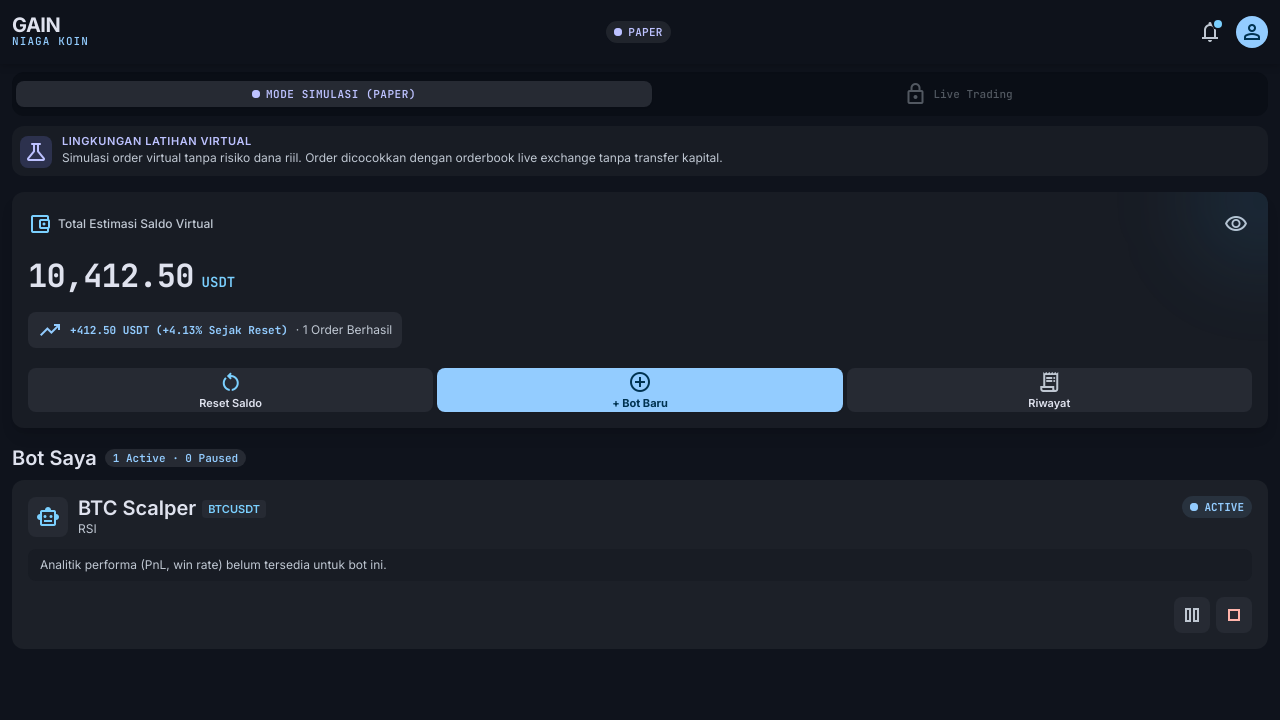
Test: DashboardPage › pauses an active bot through the real API and reflects the new status
The width and height of the screenshot is (1280, 720).
Expected: the text "BTC Scalper" is shown, [78,496,196,521]
Step 1. Click the button named "Jeda Bot" → click(1192, 615), box [1174,597,1210,633]
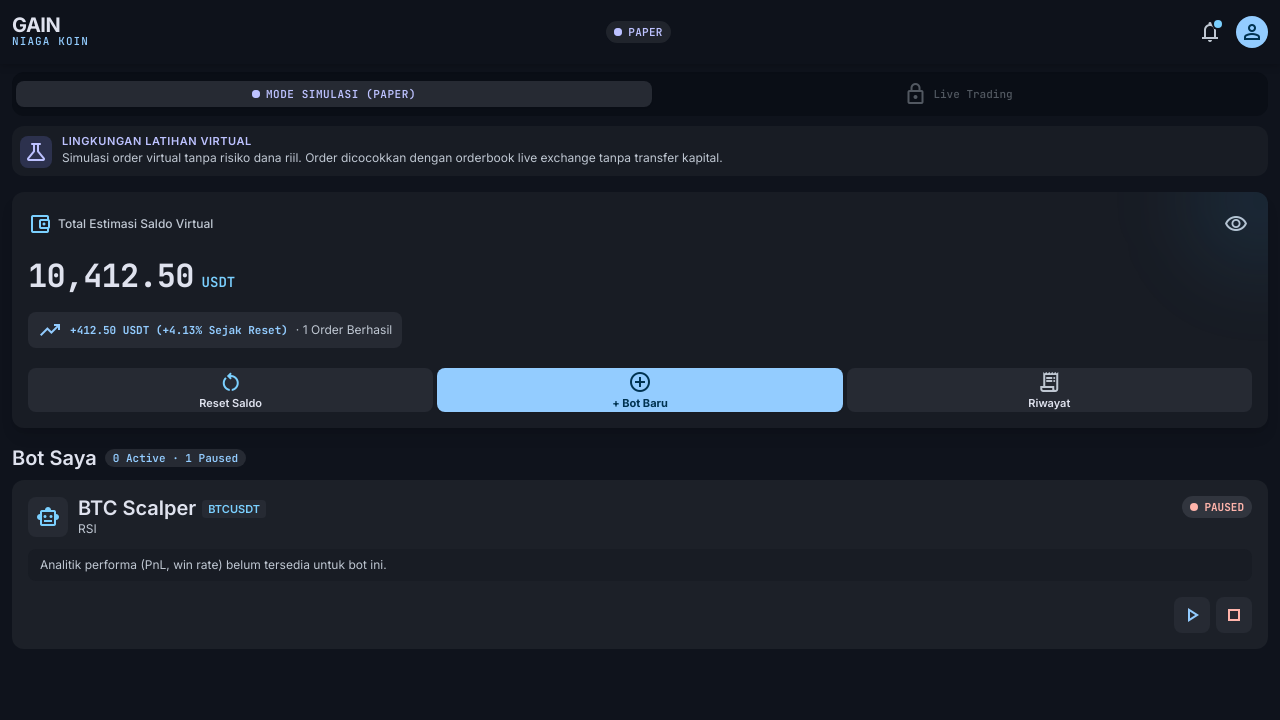
Expected: the text "0 Active · 1 Paused" is shown, [105,449,246,467]
